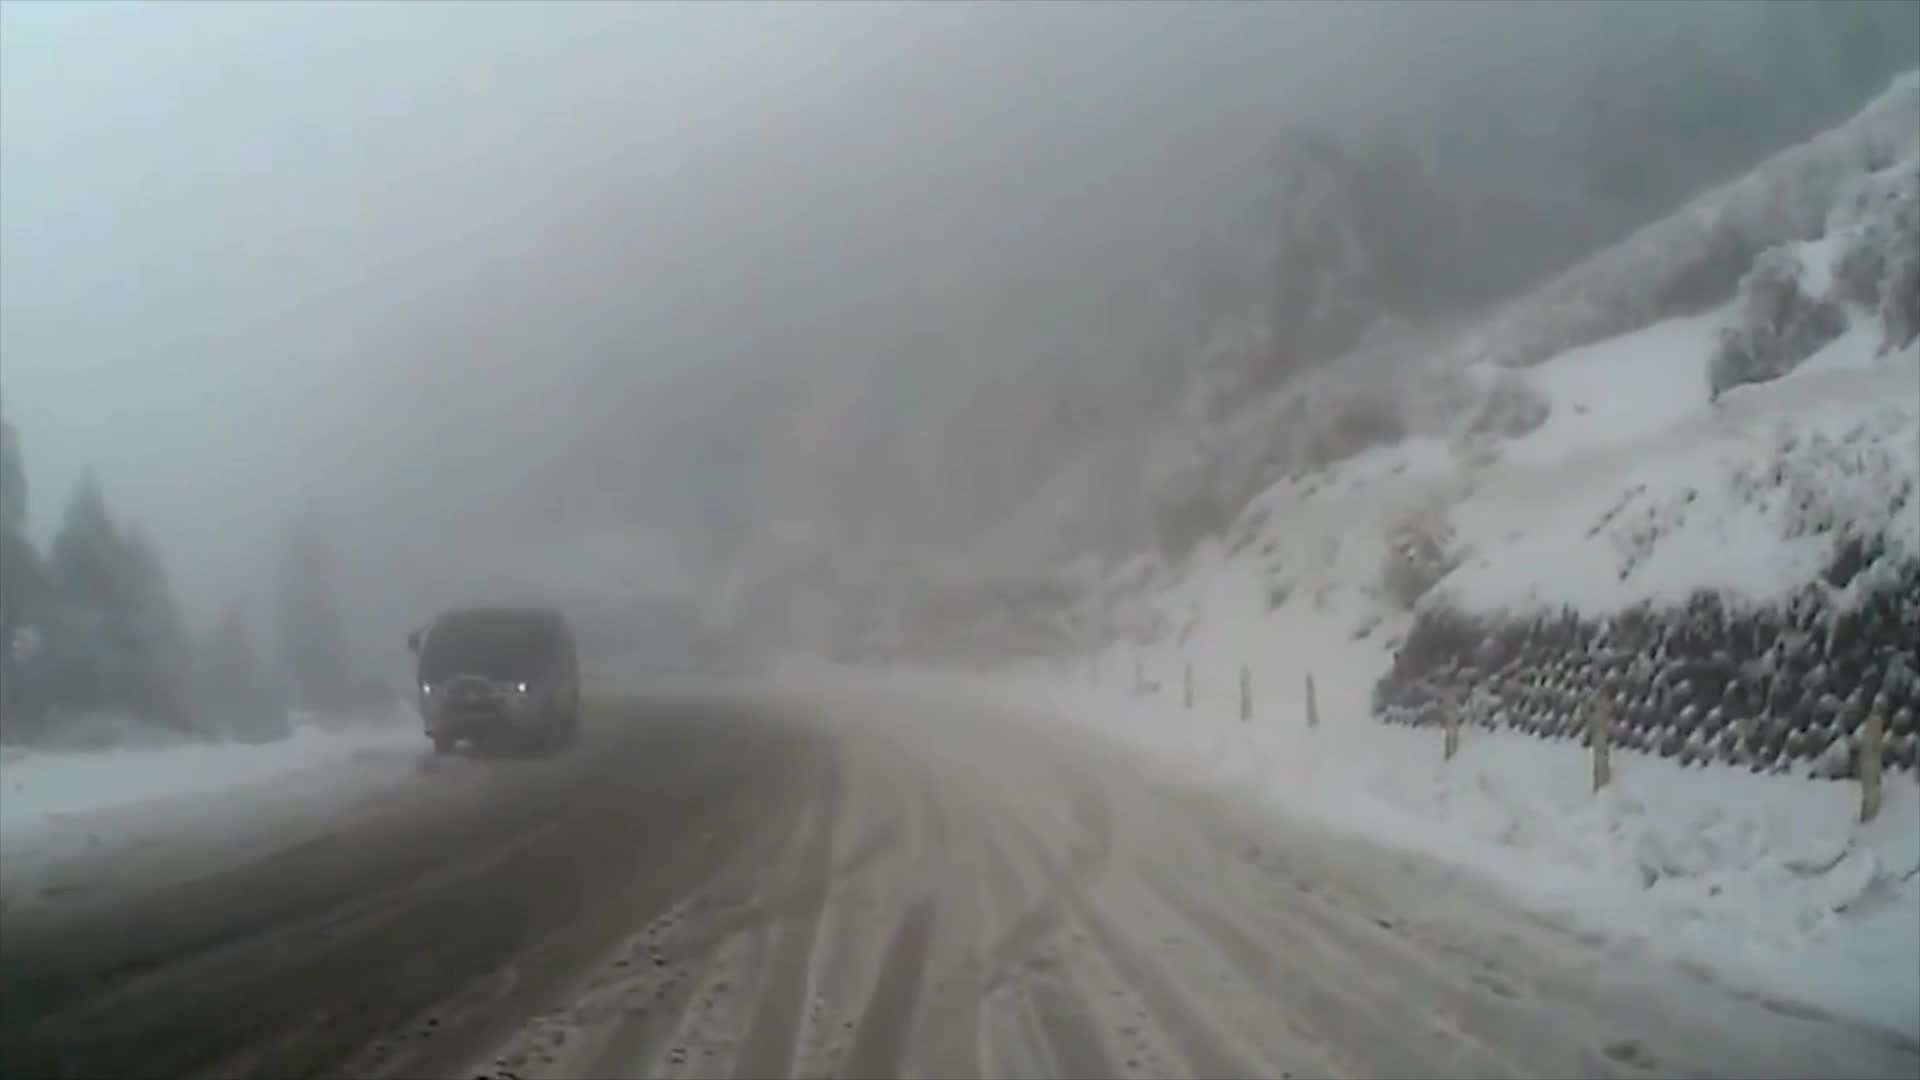vehicle: (402, 603, 580, 754)
